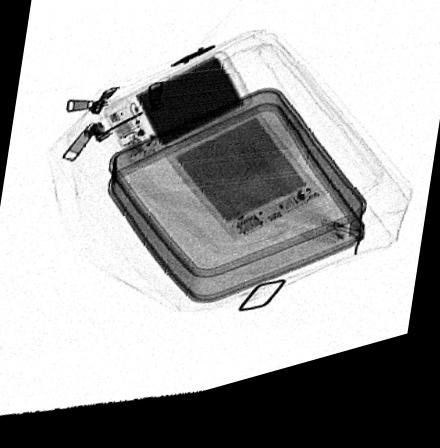Powerbank: (164, 116, 327, 255), (100, 63, 255, 171)
